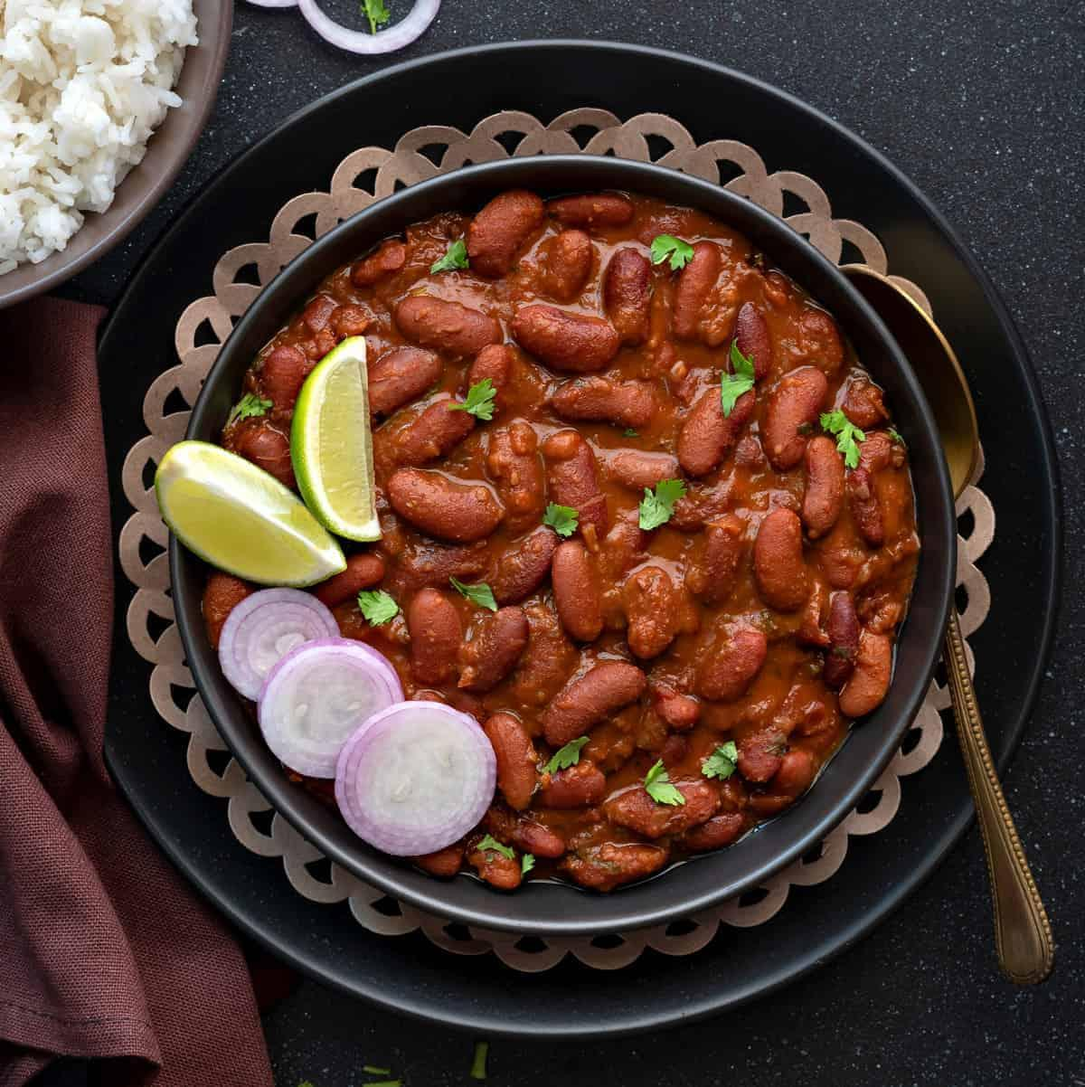rajma: (274, 232, 958, 841)
